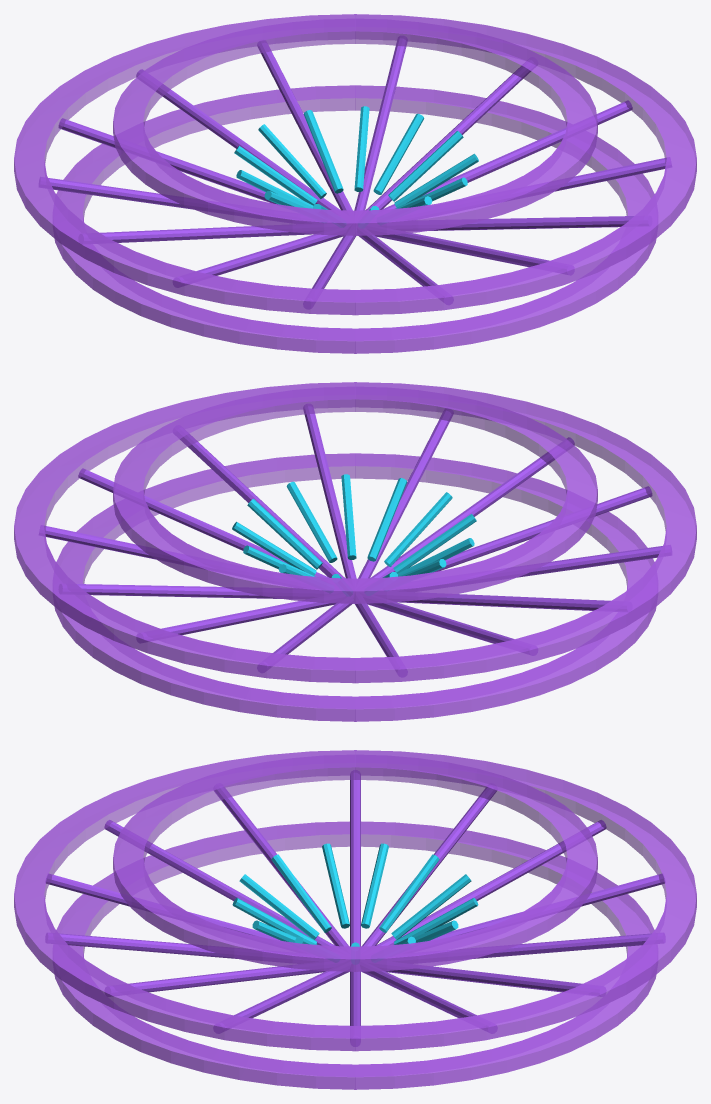
Rendered from 15_L78_CapPlasmaRFSourceAssembly.fbx.
3 views of the same model, one above another, from view 1: azimuth 30°, elevation 25°; view 2: azimuth 150°, elevation 25°; view 3: azimuth 270°, elevation 25° (orthographic).
Parts seen in each view (by area): view 1: CapPlasmaRFSourceAssembly, CapPlasmaRFSourceAssembly_Part_0017, CapPlasmaRFSourceAssembly_Part_0025, CapPlasmaRFSourceAssembly_Part_0029, CapPlasmaRFSourceAssembly_Part_0018, CapPlasmaRFSourceAssembly_Part_0026, CapPlasmaRFSourceAssembly_Part_0027, CapPlasmaRFSourceAssembly_Part_0028, CapPlasmaRFSourceAssembly_Part_0024; view 2: CapPlasmaRFSourceAssembly, CapPlasmaRFSourceAssembly_Part_0017, CapPlasmaRFSourceAssembly_Part_0022, CapPlasmaRFSourceAssembly_Part_0018, CapPlasmaRFSourceAssembly_Part_0021, CapPlasmaRFSourceAssembly_Part_0029, CapPlasmaRFSourceAssembly_Part_0020, CapPlasmaRFSourceAssembly_Part_0019, CapPlasmaRFSourceAssembly_Part_0023; view 3: CapPlasmaRFSourceAssembly, CapPlasmaRFSourceAssembly_Part_0021, CapPlasmaRFSourceAssembly_Part_0026, CapPlasmaRFSourceAssembly_Part_0022, CapPlasmaRFSourceAssembly_Part_0025, CapPlasmaRFSourceAssembly_Part_0023, CapPlasmaRFSourceAssembly_Part_0024, CapPlasmaRFSourceAssembly_Part_0020, CapPlasmaRFSourceAssembly_Part_0027.
Part boxes in pixels (<box>): CapPlasmaRFSourceAssembly: <box>14,14,696,353</box>; CapPlasmaRFSourceAssembly_Part_0017: <box>388,131,463,201</box>; CapPlasmaRFSourceAssembly_Part_0025: <box>234,146,317,205</box>; CapPlasmaRFSourceAssembly_Part_0029: <box>373,113,424,194</box>; CapPlasmaRFSourceAssembly_Part_0018: <box>394,153,478,207</box>; CapPlasmaRFSourceAssembly_Part_0026: <box>258,124,326,198</box>; CapPlasmaRFSourceAssembly_Part_0027: <box>303,110,343,193</box>; CapPlasmaRFSourceAssembly_Part_0028: <box>354,106,369,191</box>; CapPlasmaRFSourceAssembly_Part_0024: <box>236,170,313,208</box>; CapPlasmaRFSourceAssembly: <box>14,382,696,721</box>; CapPlasmaRFSourceAssembly_Part_0017: <box>247,499,322,569</box>; CapPlasmaRFSourceAssembly_Part_0022: <box>393,514,476,573</box>; CapPlasmaRFSourceAssembly_Part_0018: <box>286,481,337,562</box>; CapPlasmaRFSourceAssembly_Part_0021: <box>384,492,452,566</box>; CapPlasmaRFSourceAssembly_Part_0029: <box>232,521,316,575</box>; CapPlasmaRFSourceAssembly_Part_0020: <box>367,478,407,561</box>; CapPlasmaRFSourceAssembly_Part_0019: <box>341,474,356,559</box>; CapPlasmaRFSourceAssembly_Part_0023: <box>397,538,474,576</box>; CapPlasmaRFSourceAssembly: <box>14,750,696,1089</box>; CapPlasmaRFSourceAssembly_Part_0021: <box>239,874,319,939</box>; CapPlasmaRFSourceAssembly_Part_0026: <box>391,874,471,939</box>; CapPlasmaRFSourceAssembly_Part_0022: <box>271,854,331,932</box>; CapPlasmaRFSourceAssembly_Part_0025: <box>379,854,439,932</box>; CapPlasmaRFSourceAssembly_Part_0023: <box>322,843,349,928</box>; CapPlasmaRFSourceAssembly_Part_0024: <box>361,843,388,928</box>; CapPlasmaRFSourceAssembly_Part_0020: <box>232,898,316,944</box>; CapPlasmaRFSourceAssembly_Part_0027: <box>394,898,478,944</box>.
Size of the model in its own units: 248 by 44.44 by 248.
